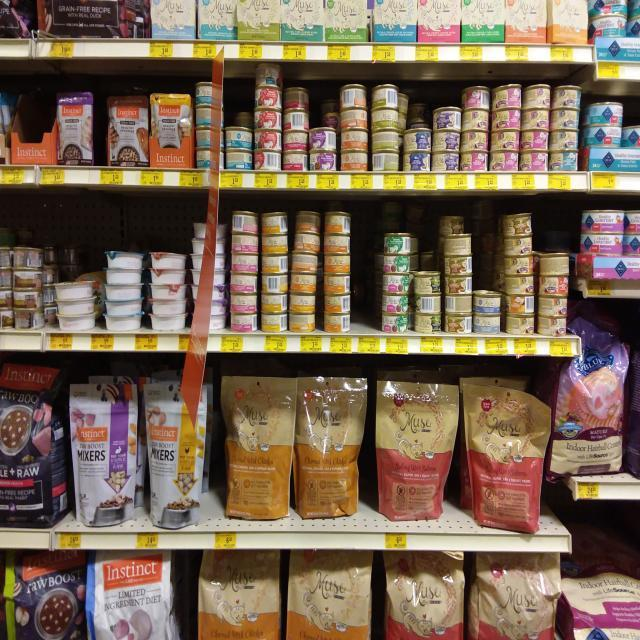empty: (354, 202, 379, 353)
